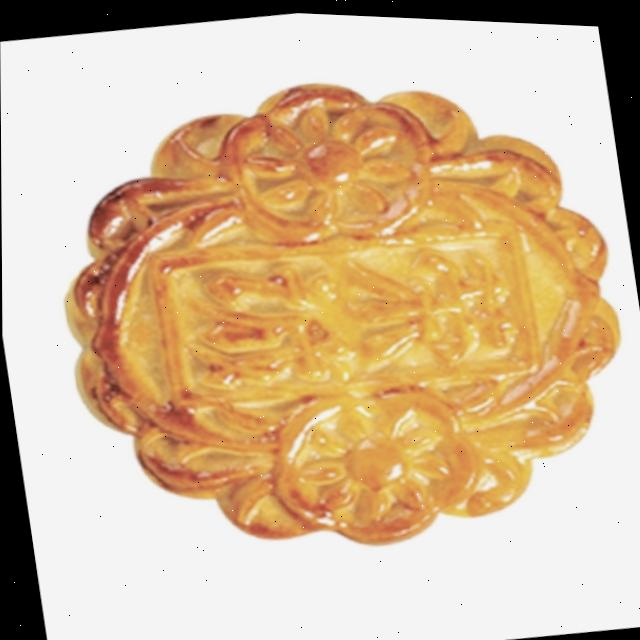蛋糕甜品: (14, 11, 640, 606)
